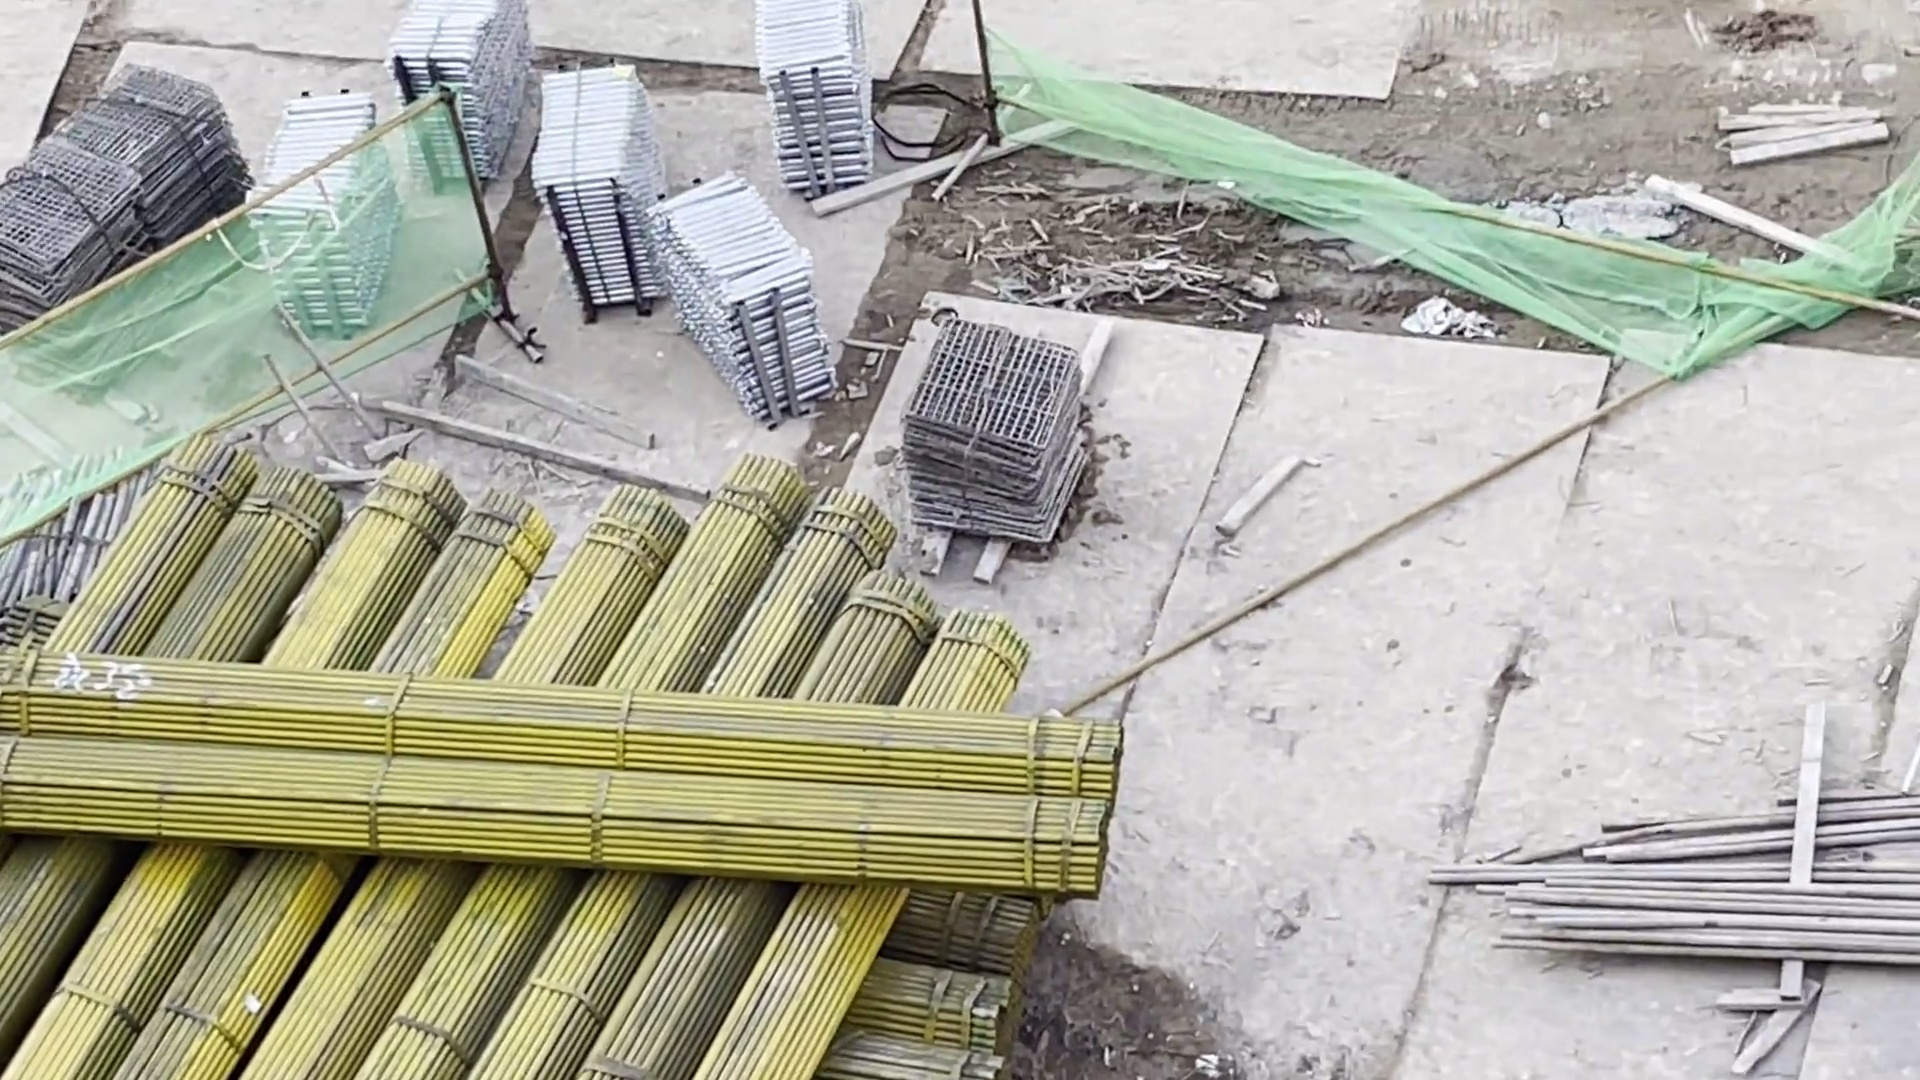scaffold: (232, 94, 413, 328), (666, 185, 825, 427), (529, 75, 680, 309), (386, 1, 542, 178), (754, 1, 891, 190)
